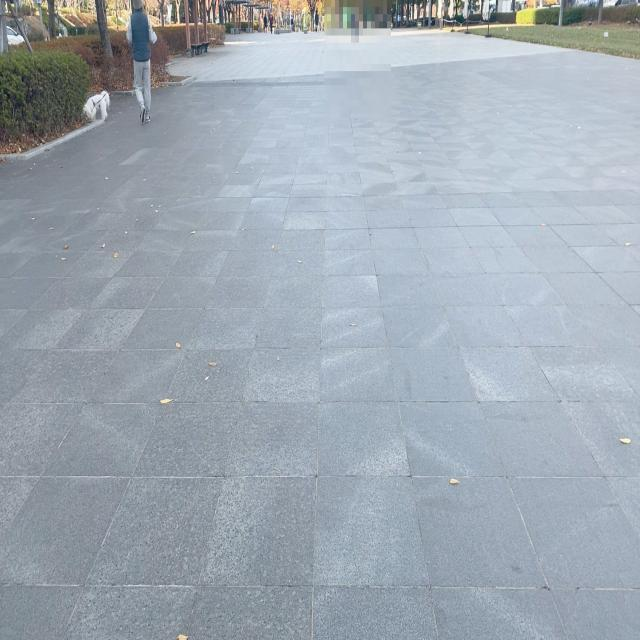Leashed_Dog: (82, 59, 142, 124)
